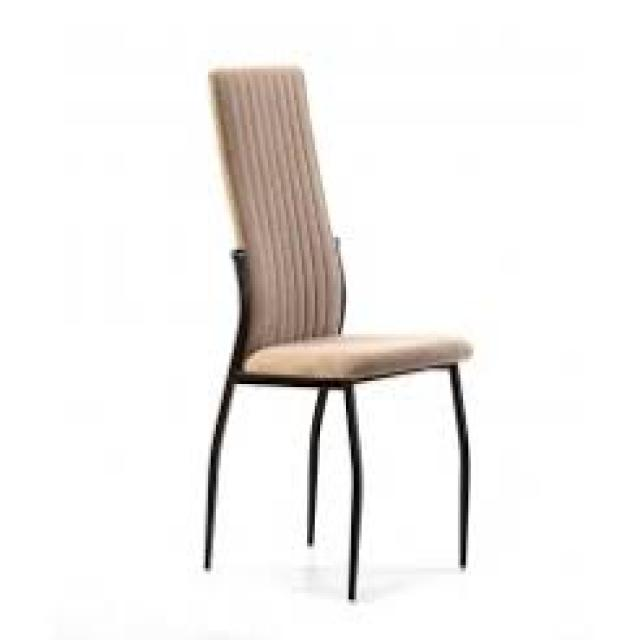bottle: (202, 59, 474, 600)
